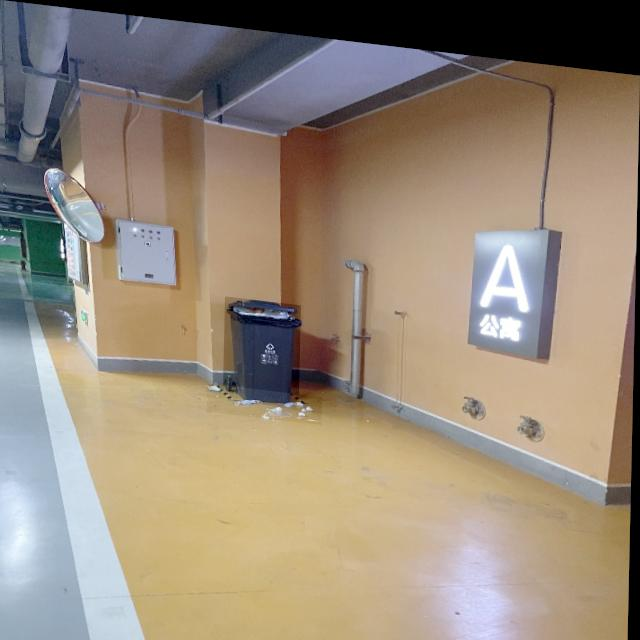garbage: (208, 379, 324, 417)
overflow: (225, 291, 302, 398)
